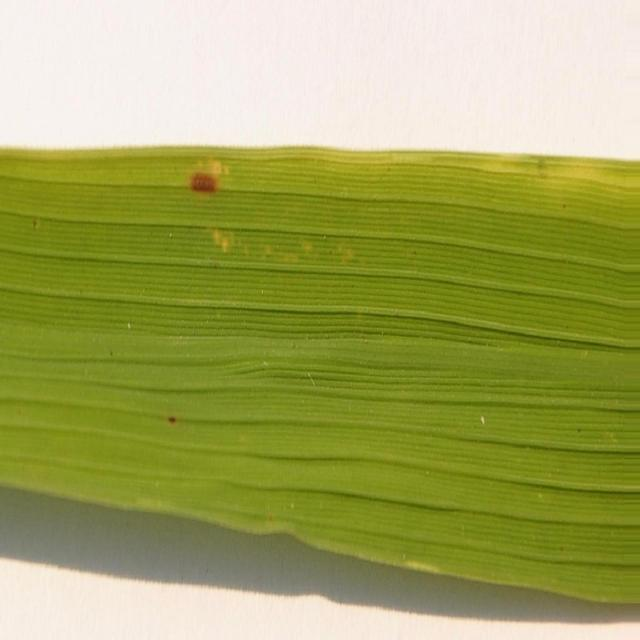Brown_Spot: (154, 396, 195, 442), (189, 160, 229, 194)
